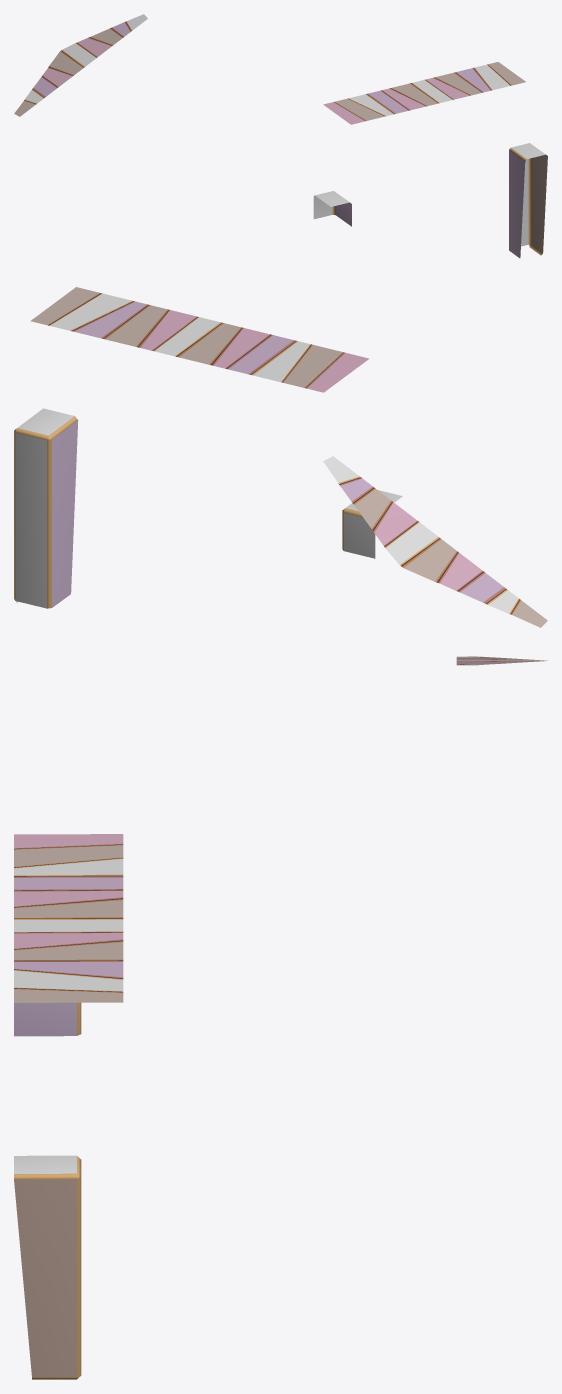
Rendered from FunHutWood.fbx.
The picture shows the model from 3 angles, top to bottom: view 1: azimuth 30°, elevation 25°; view 2: azimuth 150°, elevation 25°; view 3: azimuth 270°, elevation 25°; orthographic projection. The views are drawn at different scales.
Visible parts, largest first — view 1: FunHutWood; view 2: FunHutWood; view 3: FunHutWood.
Boxes of the visible parts, left/top/right/bottom form: FunHutWood: left=14, top=14, right=547, bottom=258; FunHutWood: left=14, top=287, right=547, bottom=627; FunHutWood: left=14, top=656, right=547, bottom=1379.
Bounding box in the file's own units: 533 × 279 × 301.
